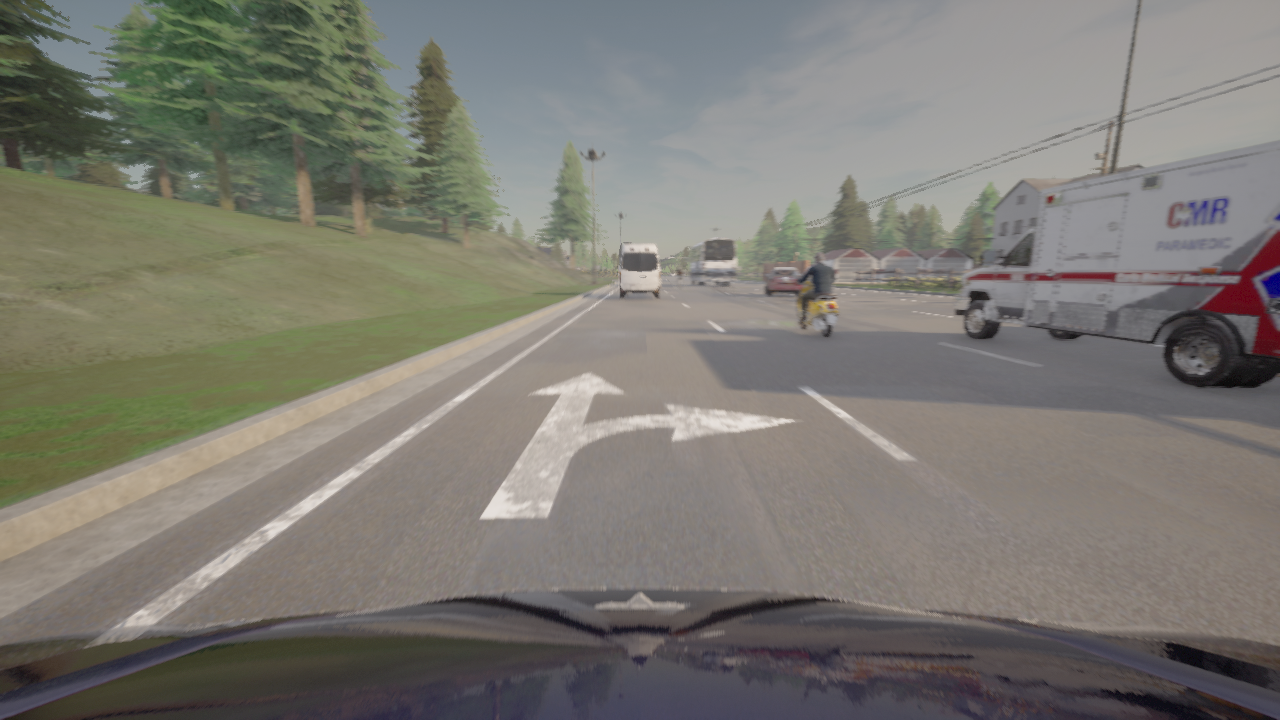cyclist: (0, 588, 1279, 719), (954, 140, 1279, 387), (793, 272, 838, 338), (686, 238, 736, 285), (618, 244, 660, 298), (765, 268, 803, 296), (680, 279, 682, 287)
